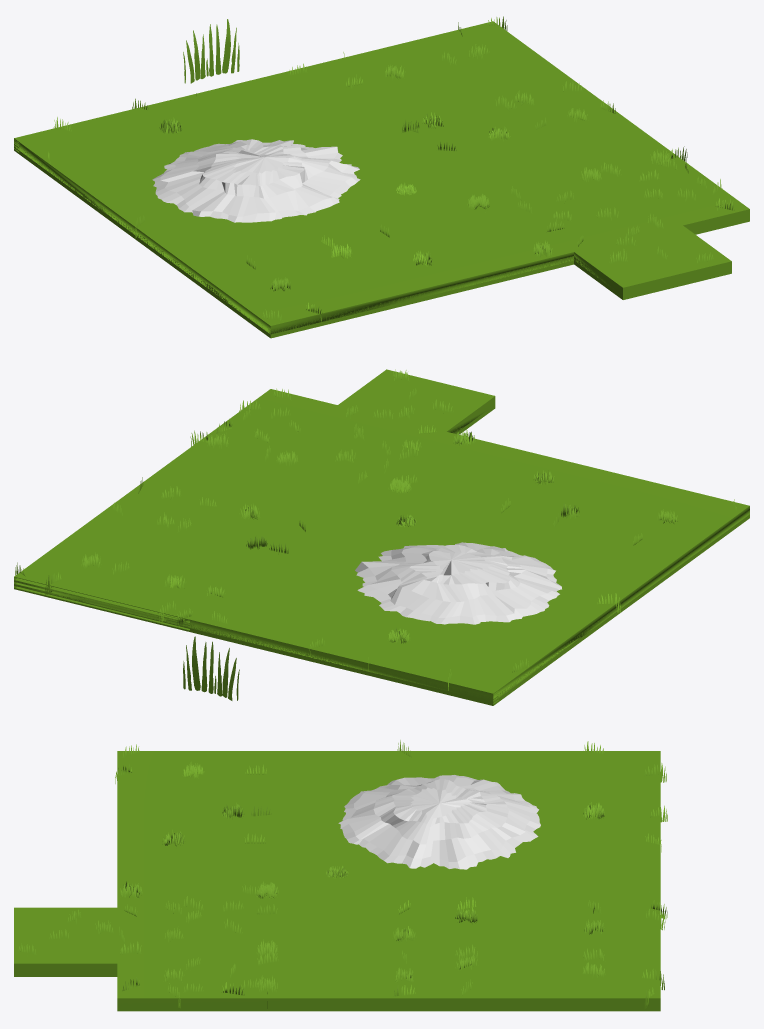
Rendered from MonsterMashMap_Pond_Hole_Textures.fbx.
3 views of the same model, one above another, from view 1: azimuth 30°, elevation 25°; view 2: azimuth 150°, elevation 25°; view 3: azimuth 270°, elevation 25° (orthographic). The views are drawn at different scales.
Parts seen in each view (by area): view 1: Ground, Cylinder, Ground.001, Plane; view 2: Ground, Cylinder, Ground.001, Plane; view 3: Ground, Cylinder, Ground.001.
Part boxes in pixels (<box>): Ground: <box>14,16,749,334</box>; Cylinder: <box>152,139,360,222</box>; Ground.001: <box>14,141,749,338</box>; Plane: <box>183,19,239,83</box>; Ground: <box>14,369,749,701</box>; Cylinder: <box>355,542,561,624</box>; Ground.001: <box>14,403,749,705</box>; Plane: <box>183,636,239,700</box>; Ground: <box>14,740,667,1009</box>; Cylinder: <box>338,775,540,869</box>; Ground.001: <box>14,968,660,1011</box>.
Bounding box in the file's own units: 1648 × 2016 × 200.
Materials: 1 (1 with a texture image).
